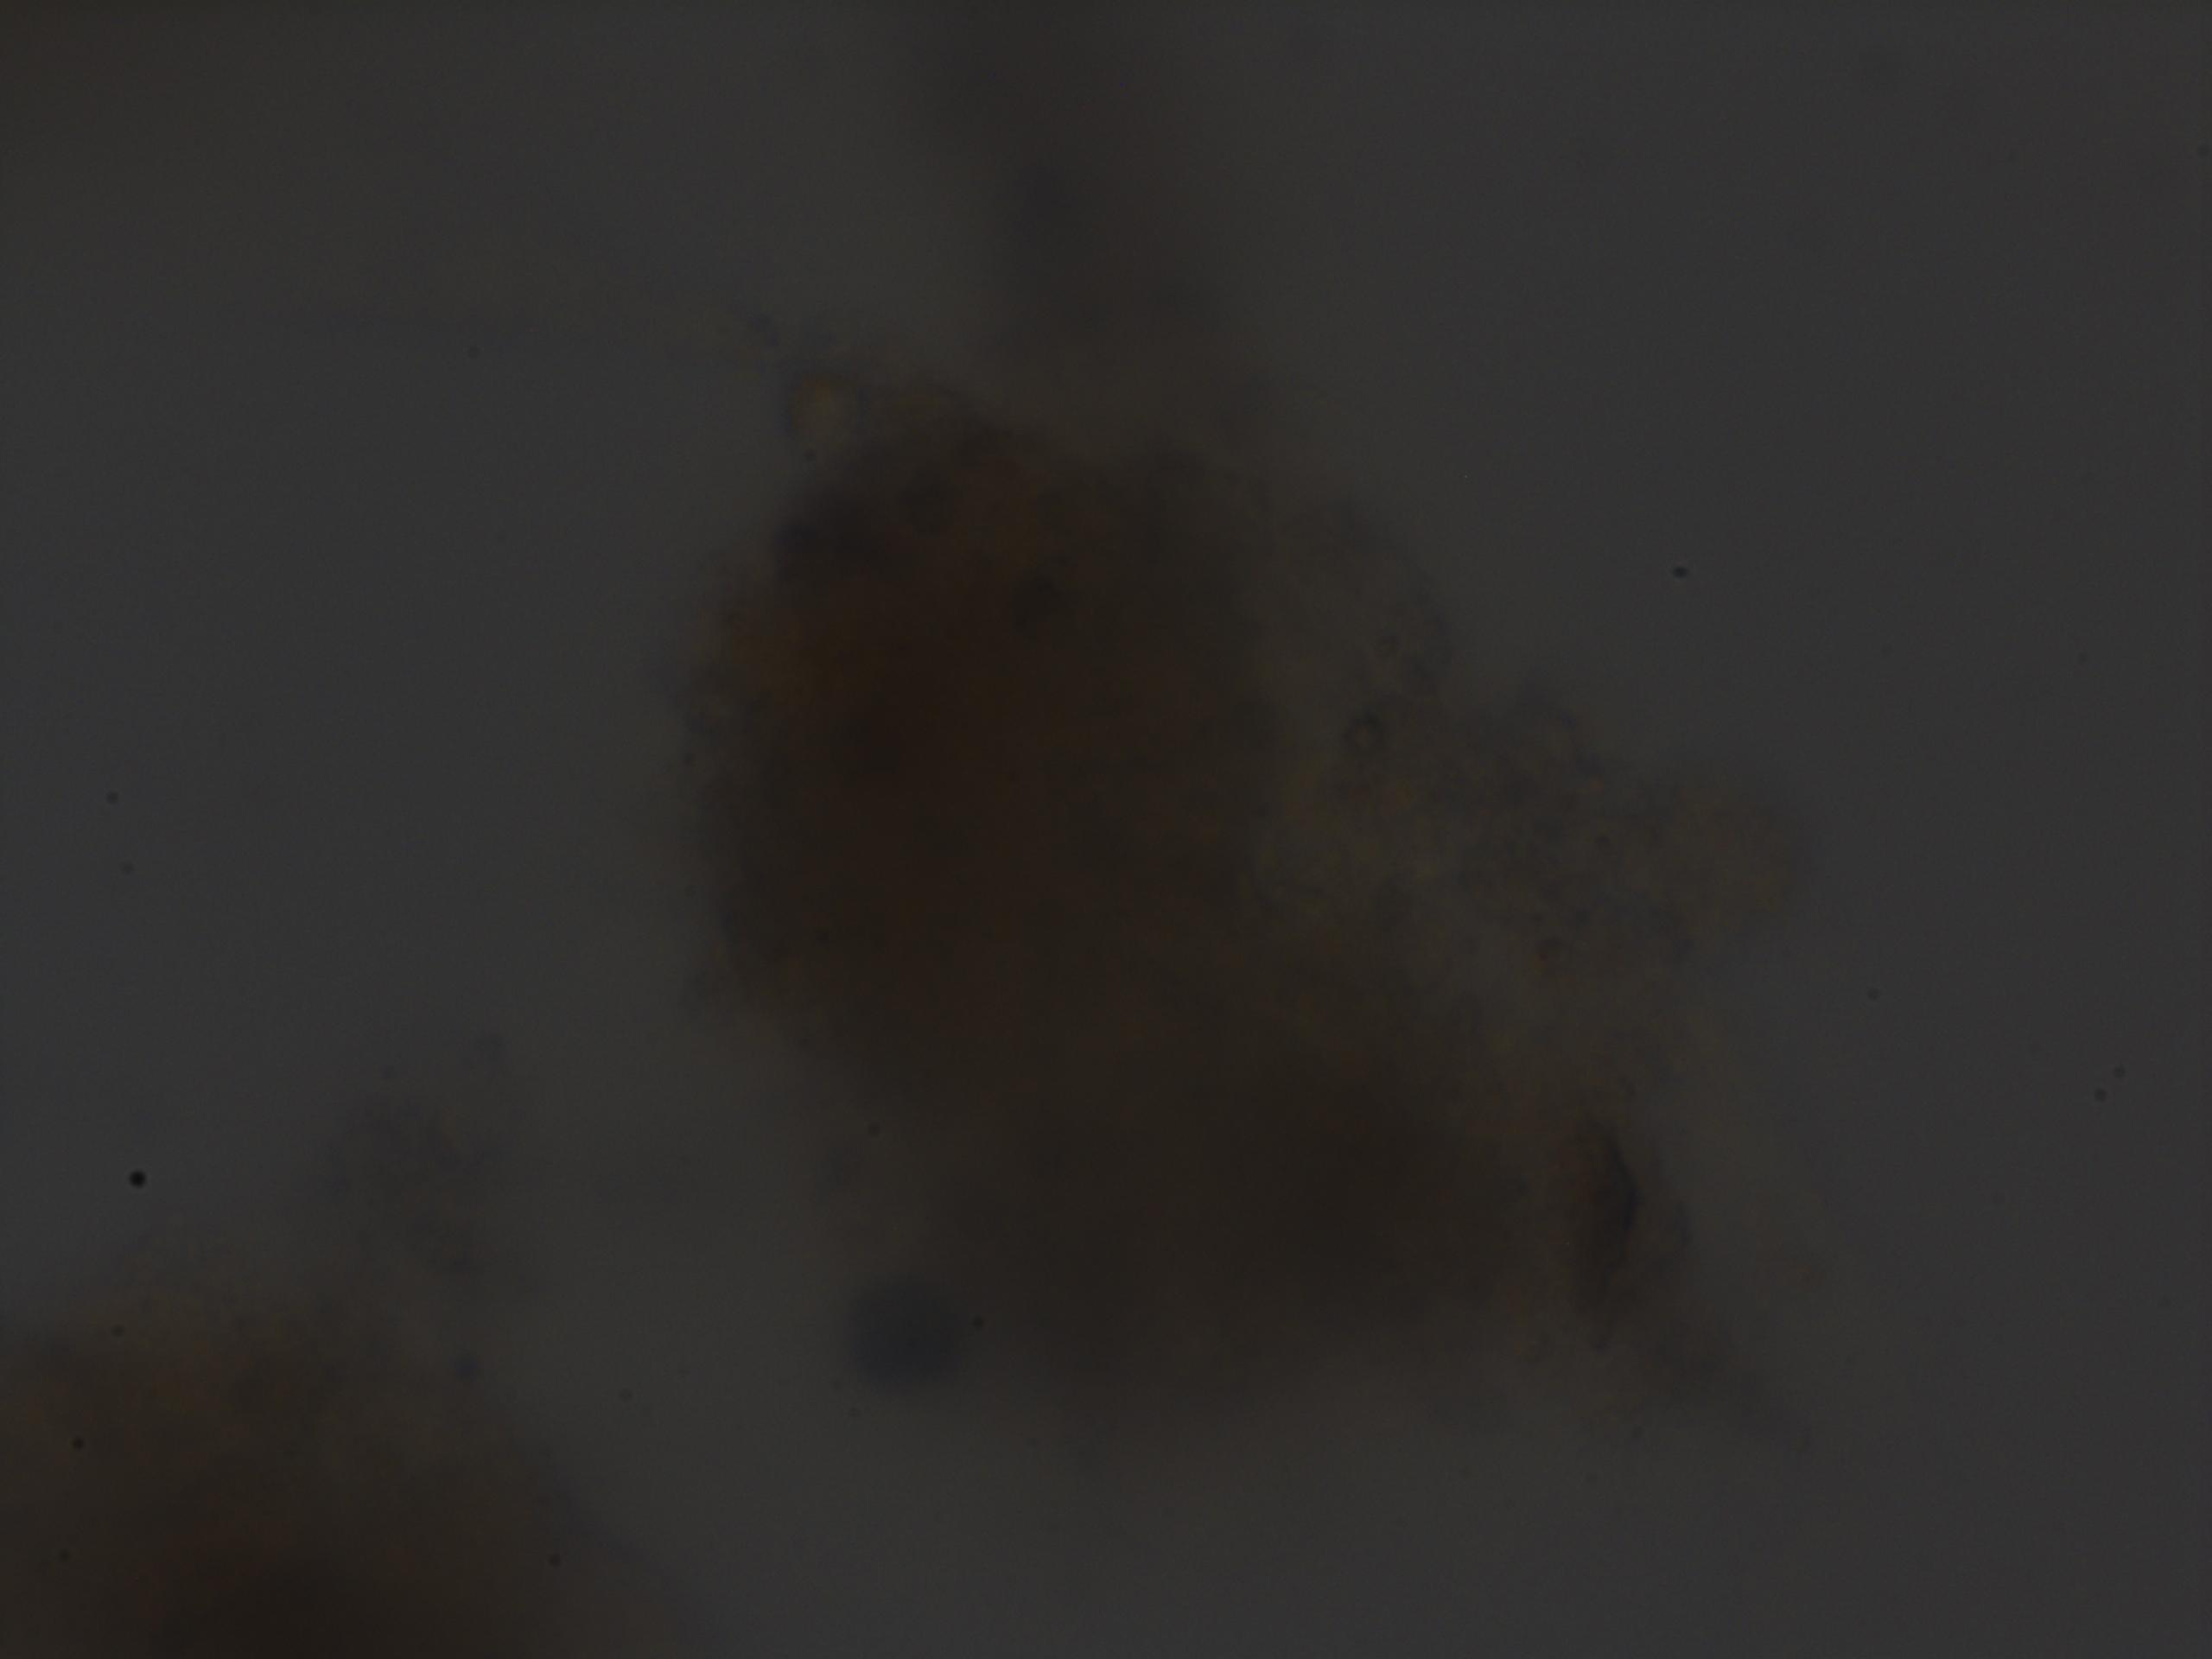spherical_floc: (671, 394, 1583, 1450)
